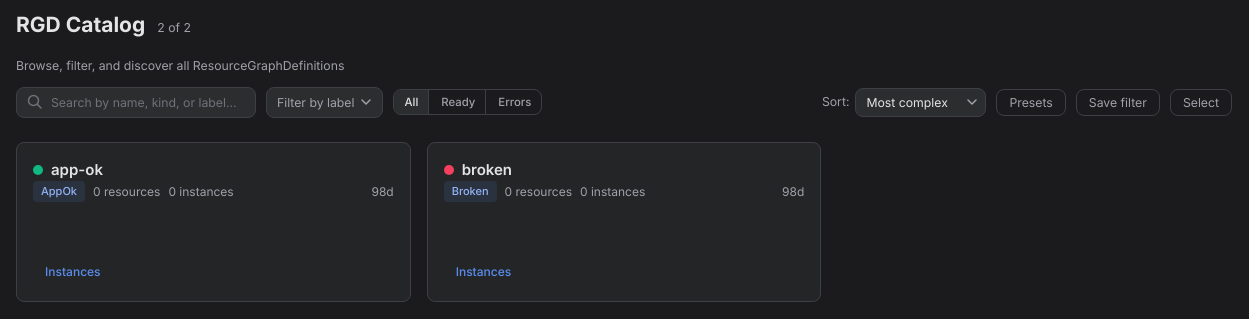
Test: Catalog › Ready filter shows only ready-state RGDs
expect the element with test id "catalog-card-app-ok" is shown: met, box [16,142,411,302]
What coordinates should you click on to do the following:
click the button with test id "catalog-status-ready"
I would click on:
 (459, 102)
Its box is [431,90,486,114].
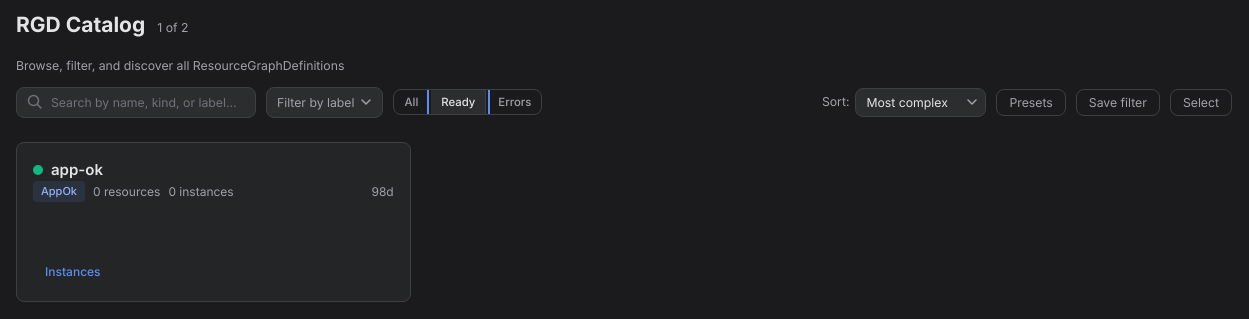
expect the element with test id "catalog-card-app-ok" is shown: met, box [16,142,411,302]
expect the element with test id "catalog-card-broken" is gone: met
